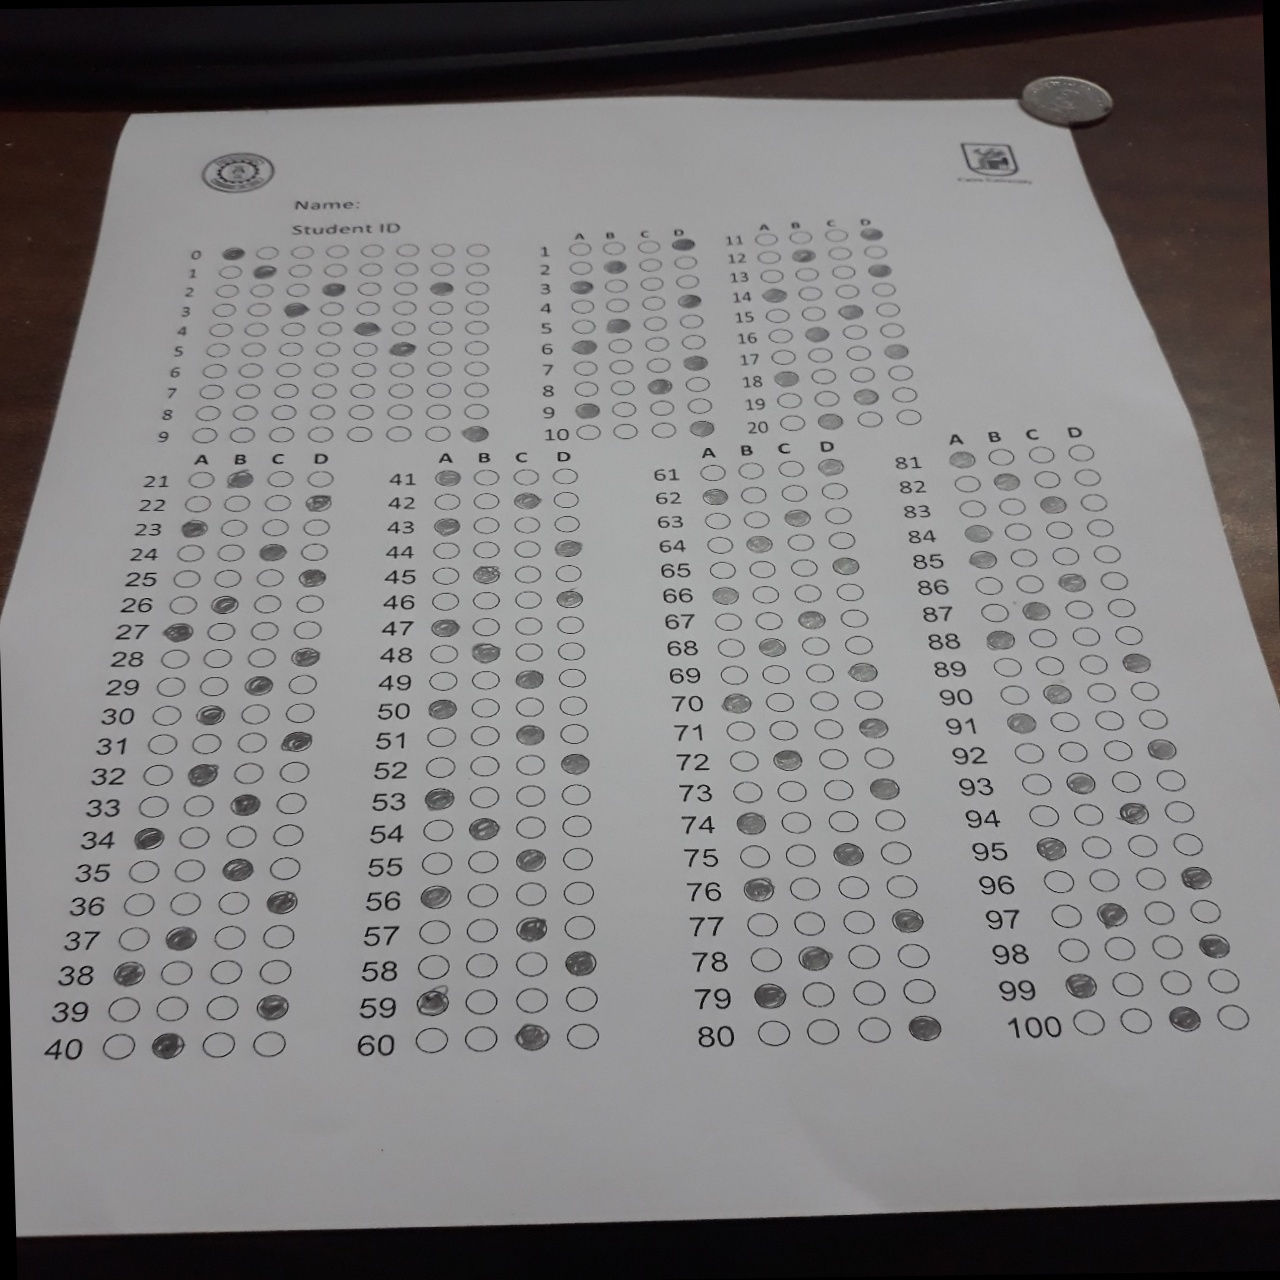not-c: (512, 983, 549, 1013), (178, 825, 213, 855), (251, 1029, 286, 1058), (463, 987, 498, 1016), (464, 881, 499, 911), (135, 790, 171, 818), (127, 857, 163, 885), (265, 853, 301, 881), (169, 890, 205, 918), (120, 890, 156, 918), (418, 850, 455, 878), (158, 958, 192, 987), (105, 995, 139, 1024), (101, 1032, 135, 1061), (465, 951, 499, 980), (510, 879, 544, 908), (181, 794, 216, 822), (141, 760, 176, 788), (172, 858, 207, 886), (205, 958, 240, 986), (212, 925, 247, 953), (205, 993, 240, 1021), (155, 995, 190, 1023), (200, 1030, 236, 1058), (411, 1027, 447, 1055), (512, 949, 547, 978), (417, 917, 452, 945), (464, 847, 499, 876), (117, 925, 151, 953), (259, 958, 293, 986), (461, 1024, 495, 1053), (464, 915, 498, 944), (216, 888, 251, 915), (415, 952, 450, 979), (785, 874, 821, 901), (802, 1017, 838, 1043), (845, 944, 881, 969), (862, 745, 898, 771), (722, 717, 758, 743), (811, 713, 847, 738), (803, 686, 839, 712), (851, 685, 887, 710), (261, 922, 295, 949), (511, 779, 545, 806), (783, 842, 817, 869), (874, 806, 908, 833), (753, 1020, 788, 1046), (850, 979, 885, 1005), (799, 982, 835, 1008), (789, 911, 824, 937), (730, 779, 765, 805), (823, 808, 858, 833), (813, 744, 849, 770), (726, 749, 761, 775), (840, 632, 876, 658), (799, 633, 835, 659), (157, 646, 193, 670), (275, 760, 312, 784), (857, 1017, 893, 1042), (842, 908, 878, 933), (896, 942, 932, 967), (511, 812, 544, 839), (512, 748, 545, 775), (238, 699, 272, 724), (467, 754, 501, 779), (469, 721, 503, 747), (563, 986, 597, 1012), (743, 911, 777, 937), (145, 733, 181, 757), (231, 760, 266, 784), (900, 978, 935, 1002), (747, 947, 782, 972), (886, 873, 921, 898), (876, 840, 911, 865), (778, 812, 813, 837), (245, 647, 281, 670), (268, 823, 305, 846), (223, 824, 259, 847), (763, 719, 799, 742), (421, 816, 454, 842), (424, 755, 457, 781), (422, 724, 455, 750), (564, 1023, 598, 1048), (835, 872, 869, 897), (738, 844, 772, 869), (821, 775, 855, 799), (1073, 1008, 1107, 1033), (188, 731, 223, 755), (234, 729, 270, 753), (274, 794, 309, 817), (776, 779, 811, 803), (1053, 937, 1088, 960), (467, 784, 499, 809), (287, 674, 321, 697), (282, 701, 316, 724), (1189, 899, 1223, 922), (1148, 934, 1182, 958), (1110, 971, 1144, 994), (1158, 971, 1192, 994), (1205, 968, 1239, 992), (1216, 1005, 1250, 1028), (197, 675, 232, 697), (151, 676, 186, 699), (558, 813, 591, 837), (563, 915, 595, 939), (1077, 652, 1110, 675), (1085, 680, 1118, 703), (1135, 707, 1167, 730), (1014, 741, 1047, 764), (1162, 799, 1194, 823), (200, 648, 234, 670), (150, 704, 184, 727), (560, 847, 594, 870), (561, 881, 595, 904), (1087, 869, 1121, 891), (1141, 901, 1175, 924), (1103, 937, 1137, 959), (1118, 1009, 1152, 1032), (837, 605, 867, 629), (1153, 769, 1185, 792), (1073, 802, 1104, 825), (1080, 836, 1111, 859), (1026, 627, 1058, 649), (1033, 654, 1065, 676), (1128, 681, 1160, 703), (995, 682, 1028, 704), (1055, 741, 1088, 763), (1108, 770, 1141, 792), (1135, 866, 1167, 888), (1040, 871, 1073, 893), (1048, 904, 1081, 926), (717, 636, 748, 660), (791, 581, 822, 605), (750, 580, 781, 604), (515, 640, 546, 662), (511, 614, 543, 636), (511, 536, 543, 558), (753, 608, 784, 631), (1021, 772, 1053, 795), (1027, 803, 1058, 825), (1124, 835, 1156, 857), (468, 615, 501, 636), (468, 539, 501, 560), (550, 464, 583, 485), (719, 663, 747, 688), (1048, 712, 1081, 733), (1092, 708, 1125, 729), (1101, 738, 1133, 760), (1170, 833, 1203, 855), (805, 661, 835, 685), (761, 661, 790, 685), (712, 610, 741, 633), (833, 579, 863, 602), (248, 619, 279, 641), (513, 695, 544, 717), (512, 587, 543, 610), (763, 690, 794, 713), (297, 542, 328, 563), (173, 542, 205, 563), (290, 618, 321, 639), (431, 642, 463, 663), (468, 588, 499, 610), (429, 539, 461, 560), (469, 488, 501, 509), (474, 464, 505, 485), (510, 465, 542, 486), (550, 488, 581, 509), (551, 512, 583, 533), (554, 614, 586, 635), (552, 640, 584, 661), (557, 694, 588, 715), (557, 723, 588, 744), (558, 784, 590, 805), (1064, 597, 1094, 619), (252, 593, 282, 614), (206, 622, 237, 644), (469, 668, 499, 689), (431, 592, 462, 613), (430, 491, 461, 512), (553, 563, 584, 584), (512, 563, 543, 584), (554, 666, 585, 687), (973, 574, 1003, 595), (216, 543, 247, 563), (427, 670, 458, 690), (427, 567, 458, 587), (260, 517, 290, 538), (302, 516, 332, 537), (210, 567, 239, 588), (253, 568, 282, 590), (166, 595, 196, 617), (1080, 490, 1109, 511), (1012, 573, 1041, 594), (978, 601, 1007, 622), (470, 697, 501, 717), (512, 513, 543, 533), (471, 515, 502, 535), (1070, 625, 1098, 646), (294, 594, 324, 614), (787, 535, 816, 554), (735, 459, 764, 479), (740, 509, 769, 529), (808, 343, 835, 365), (797, 282, 825, 302), (172, 568, 200, 588), (747, 558, 775, 578), (788, 559, 816, 579), (986, 447, 1014, 467), (1026, 444, 1054, 464), (1073, 467, 1101, 486), (1087, 518, 1115, 538), (1002, 522, 1030, 542), (998, 497, 1026, 517), (1032, 469, 1060, 489), (890, 384, 919, 403), (461, 318, 490, 336), (316, 319, 346, 338), (825, 530, 855, 549), (821, 506, 850, 525), (697, 462, 727, 481), (216, 519, 248, 536), (810, 365, 837, 384), (801, 304, 828, 324), (738, 485, 765, 505), (954, 474, 981, 493), (1069, 442, 1096, 462), (1010, 547, 1037, 567), (1107, 597, 1133, 617), (648, 420, 676, 438), (462, 359, 490, 377), (389, 319, 417, 338), (305, 425, 333, 444), (778, 459, 806, 478), (703, 512, 731, 531), (706, 535, 734, 553), (1092, 543, 1121, 561), (1050, 545, 1078, 564), (1099, 570, 1128, 588), (993, 658, 1021, 676), (648, 399, 678, 416), (568, 319, 598, 336), (570, 359, 599, 376), (459, 402, 489, 420), (318, 261, 347, 279), (347, 360, 376, 377), (425, 360, 455, 377), (236, 360, 265, 377), (264, 469, 293, 486), (849, 365, 876, 383), (896, 407, 922, 425), (464, 298, 491, 316), (256, 243, 282, 261), (708, 561, 735, 580), (821, 481, 847, 499), (781, 485, 808, 504), (1046, 519, 1073, 538), (956, 499, 983, 518), (1115, 626, 1142, 645), (815, 389, 843, 407), (764, 306, 792, 324), (678, 312, 706, 329), (607, 399, 635, 416), (598, 238, 626, 256), (568, 298, 597, 315), (464, 339, 492, 356), (461, 279, 489, 297), (463, 258, 491, 275), (392, 239, 420, 257), (390, 260, 418, 278), (428, 298, 456, 315), (389, 300, 417, 318), (392, 279, 420, 297), (314, 340, 342, 358), (384, 359, 413, 376), (424, 425, 452, 443), (384, 423, 413, 441), (308, 403, 336, 421), (309, 381, 338, 399), (309, 360, 338, 377), (287, 243, 315, 260), (229, 424, 257, 442), (191, 425, 219, 443), (200, 360, 229, 377), (206, 320, 234, 338), (754, 247, 783, 264), (768, 349, 797, 366), (775, 392, 804, 408), (644, 358, 673, 374), (354, 261, 383, 278), (423, 403, 452, 420), (279, 320, 308, 336), (273, 361, 302, 377), (282, 261, 312, 278), (231, 404, 260, 421), (304, 470, 333, 486), (185, 470, 215, 486), (856, 411, 883, 429), (777, 414, 804, 431), (678, 332, 704, 349), (636, 257, 663, 274), (612, 422, 639, 440), (602, 295, 629, 313), (461, 381, 488, 399), (463, 239, 490, 257), (324, 241, 350, 259), (350, 340, 377, 358), (428, 339, 455, 356), (423, 380, 450, 397), (388, 382, 415, 400), (273, 381, 300, 399), (241, 340, 268, 358), (183, 493, 210, 511), (785, 229, 813, 245), (751, 229, 779, 245), (756, 267, 784, 284), (765, 328, 794, 345), (685, 397, 713, 414), (674, 273, 702, 290), (635, 238, 663, 254), (638, 277, 666, 293), (640, 297, 668, 313), (644, 336, 672, 353), (564, 240, 592, 257), (428, 241, 456, 258), (356, 241, 384, 258), (356, 299, 384, 315), (425, 319, 454, 335), (348, 382, 376, 399), (382, 403, 410, 420), (343, 424, 372, 441), (279, 342, 307, 359), (266, 424, 294, 441), (284, 280, 312, 297), (243, 322, 271, 339), (195, 406, 223, 422), (200, 341, 229, 358), (207, 301, 236, 318), (263, 493, 291, 510), (640, 316, 669, 332), (605, 358, 634, 373), (346, 404, 375, 420), (271, 406, 300, 421), (887, 363, 914, 380), (683, 375, 710, 392), (608, 379, 635, 395), (574, 423, 601, 440), (572, 380, 599, 396), (355, 280, 382, 297), (246, 282, 273, 299), (244, 302, 271, 319), (234, 382, 261, 399), (224, 495, 251, 511), (606, 338, 634, 353), (567, 260, 595, 275), (602, 278, 629, 293), (429, 261, 456, 277), (198, 384, 225, 400), (213, 282, 240, 298), (863, 243, 887, 259), (871, 280, 896, 297), (842, 324, 866, 340), (828, 245, 852, 261), (318, 301, 343, 316), (876, 300, 899, 316), (792, 267, 819, 281), (670, 256, 697, 270), (832, 264, 855, 280), (880, 322, 904, 338), (835, 282, 858, 298), (219, 265, 244, 279), (847, 345, 870, 360), (825, 227, 847, 241)
taken-c: (252, 993, 290, 1022), (185, 760, 223, 789), (513, 913, 550, 942), (110, 959, 147, 988), (749, 981, 787, 1009), (905, 1013, 942, 1041), (465, 815, 503, 843), (161, 922, 198, 951), (218, 855, 256, 883), (131, 823, 169, 851), (226, 790, 264, 818), (561, 949, 598, 978), (512, 1022, 549, 1050), (512, 846, 549, 874), (413, 988, 450, 1015), (149, 1032, 186, 1058), (263, 888, 300, 915), (416, 883, 452, 910), (1064, 971, 1099, 998), (1167, 1005, 1201, 1032), (511, 666, 546, 692), (279, 729, 314, 755), (420, 785, 456, 810), (511, 721, 547, 745), (467, 639, 502, 663), (558, 751, 594, 775), (159, 618, 196, 641), (293, 565, 329, 588), (797, 945, 830, 971), (1005, 710, 1039, 735), (866, 776, 900, 801), (241, 673, 275, 697), (424, 696, 459, 720), (743, 877, 775, 903), (1116, 651, 1152, 673), (286, 645, 322, 667), (1144, 735, 1177, 760), (1035, 836, 1068, 860), (1178, 865, 1212, 888), (731, 811, 765, 835), (890, 908, 924, 932), (207, 593, 241, 617), (1017, 600, 1053, 622), (1037, 682, 1073, 704), (192, 703, 227, 726), (1063, 771, 1095, 796), (1116, 801, 1148, 825), (857, 715, 888, 740), (831, 840, 863, 865), (1094, 901, 1126, 925), (1197, 933, 1230, 956), (772, 748, 803, 772), (982, 629, 1017, 651), (256, 543, 290, 564), (222, 468, 256, 489), (179, 517, 211, 539), (511, 490, 544, 511), (302, 492, 335, 513), (430, 468, 464, 488), (552, 588, 585, 608), (428, 618, 462, 636), (552, 538, 586, 557), (468, 564, 501, 583), (429, 516, 462, 535), (1055, 572, 1085, 592), (797, 610, 828, 629), (721, 692, 751, 712), (1039, 493, 1068, 513), (816, 411, 845, 431), (387, 338, 416, 358), (701, 486, 730, 506), (830, 556, 859, 576), (813, 457, 844, 476), (947, 449, 975, 469), (757, 636, 785, 656), (989, 472, 1019, 491), (967, 550, 996, 568), (850, 388, 879, 407), (645, 377, 674, 396), (680, 353, 709, 372), (783, 509, 812, 527), (744, 533, 774, 552), (350, 319, 381, 336), (962, 523, 990, 542), (710, 586, 738, 605), (847, 662, 876, 681), (568, 338, 598, 355), (459, 424, 489, 442), (802, 326, 830, 343), (687, 418, 715, 436), (573, 402, 602, 418), (604, 316, 633, 333), (772, 370, 799, 388), (836, 302, 864, 319), (675, 292, 703, 308), (601, 257, 627, 274), (670, 234, 696, 252), (252, 263, 278, 280), (881, 343, 908, 360), (320, 281, 347, 298), (866, 263, 893, 278), (220, 245, 245, 261), (568, 280, 594, 295), (429, 281, 455, 297), (760, 288, 787, 302), (282, 302, 309, 316), (790, 248, 815, 263), (859, 229, 883, 240)
